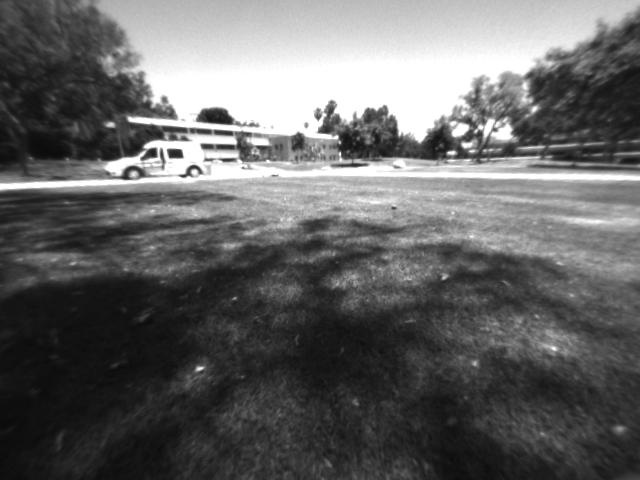dogtoy: (386, 199, 402, 213)
